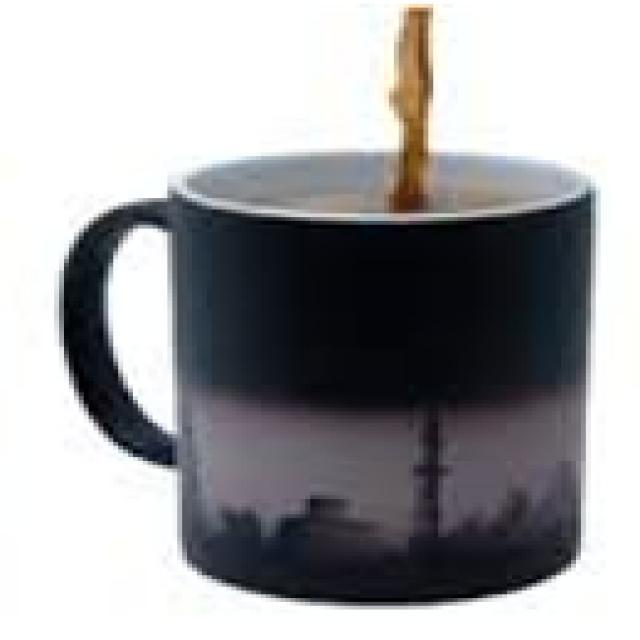taza: (61, 147, 600, 608)
